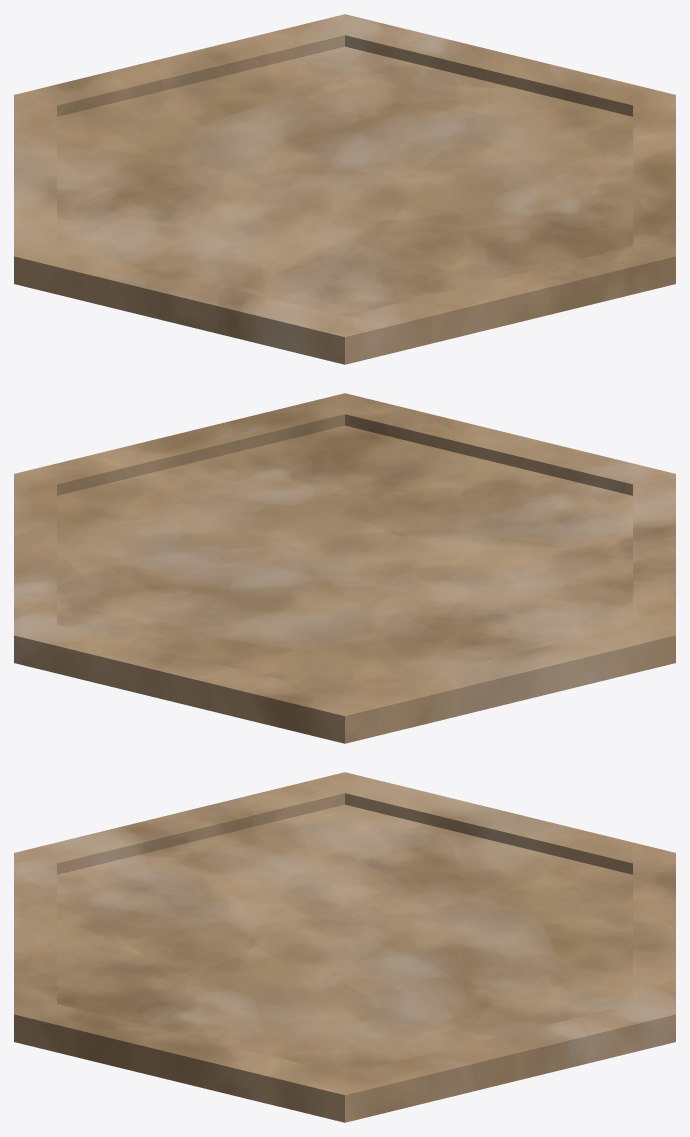
File: round_tile.fbx
3 views of the same model, one above another, from view 1: azimuth 30°, elevation 25°; view 2: azimuth 150°, elevation 25°; view 3: azimuth 270°, elevation 25° (orthographic).
Parts seen in each view (by area): view 1: Cylinder001; view 2: Cylinder001; view 3: Cylinder001.
Boxes of the visible parts, <box> form: Cylinder001: <box>14,14,675,364</box>; Cylinder001: <box>14,393,675,743</box>; Cylinder001: <box>14,772,675,1122</box>.
Size of the model in its own units: 7.5 by 0.2986 by 6.5.
